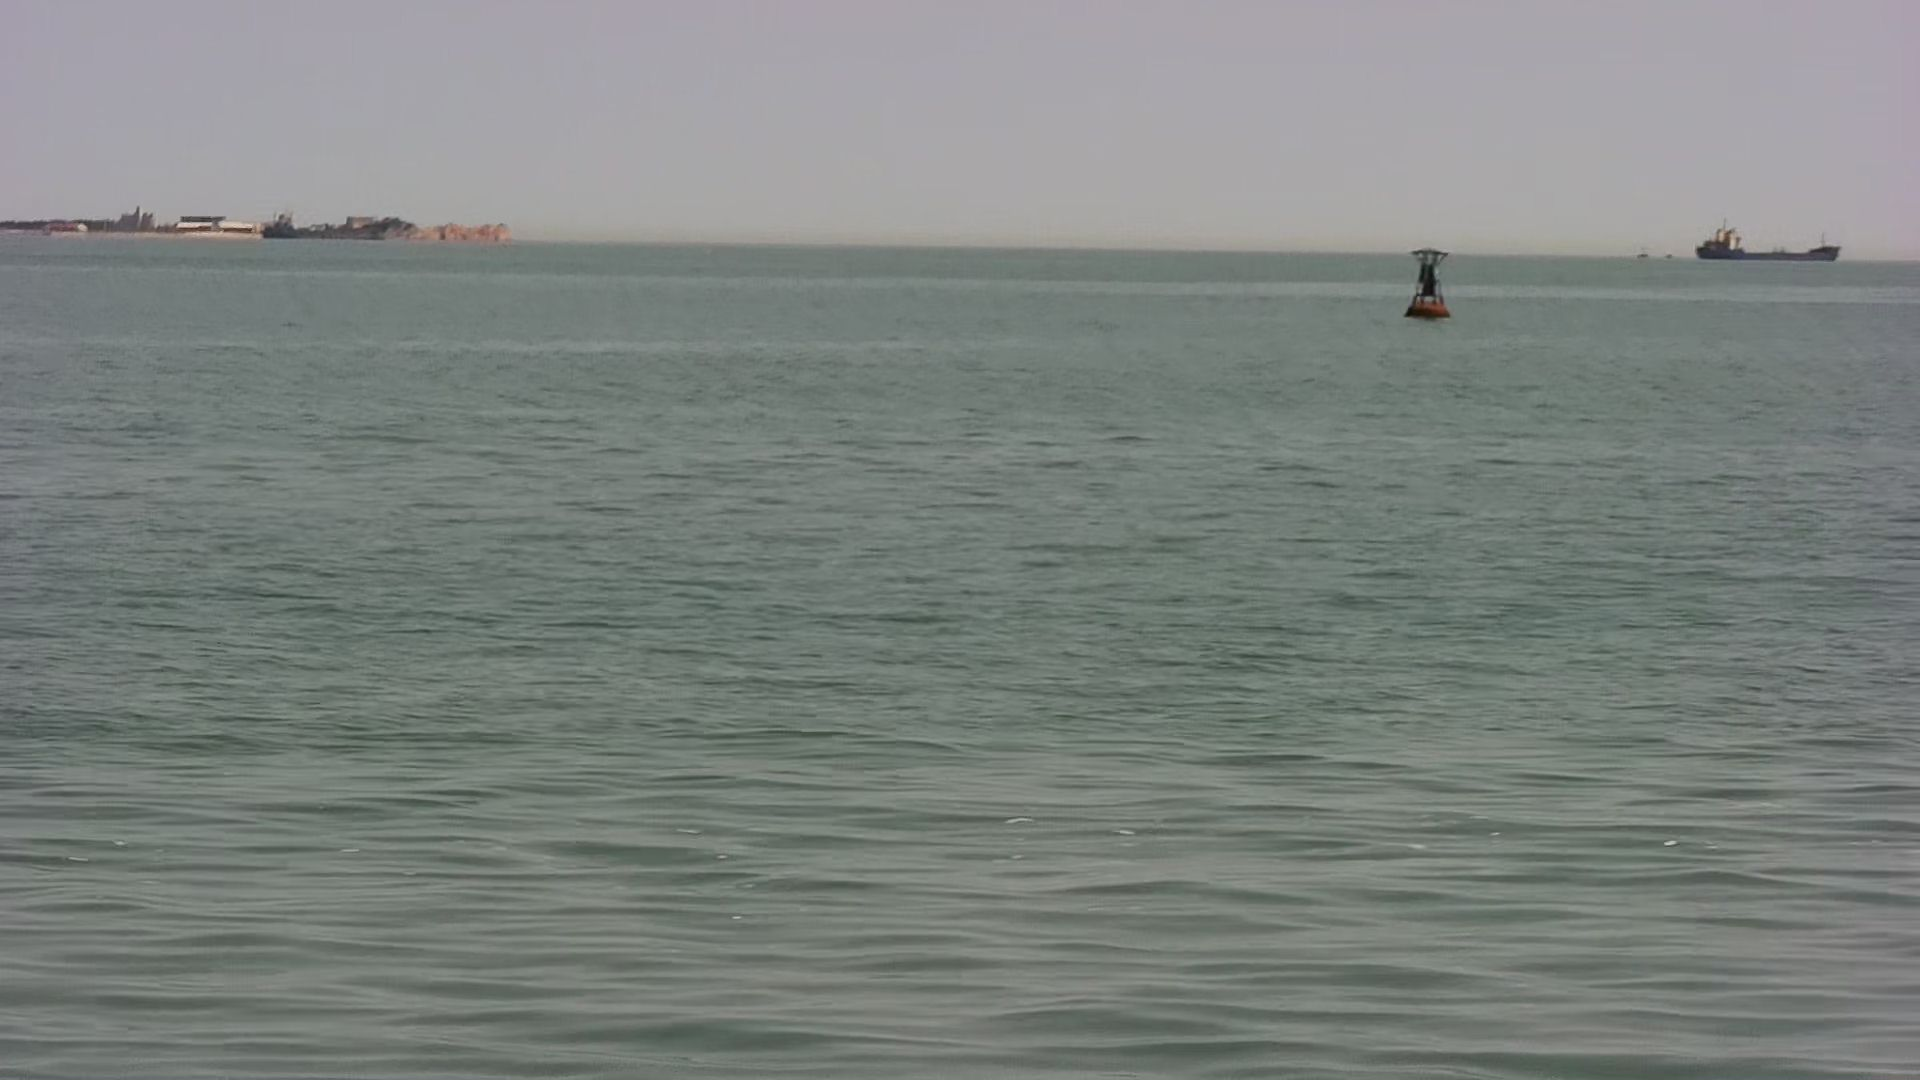buoy: (1393, 243, 1460, 330)
rock: (1, 196, 521, 251)
ship: (1689, 206, 1849, 276)
